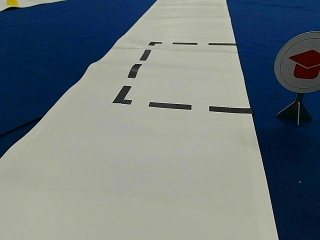school: (274, 32, 319, 93)
